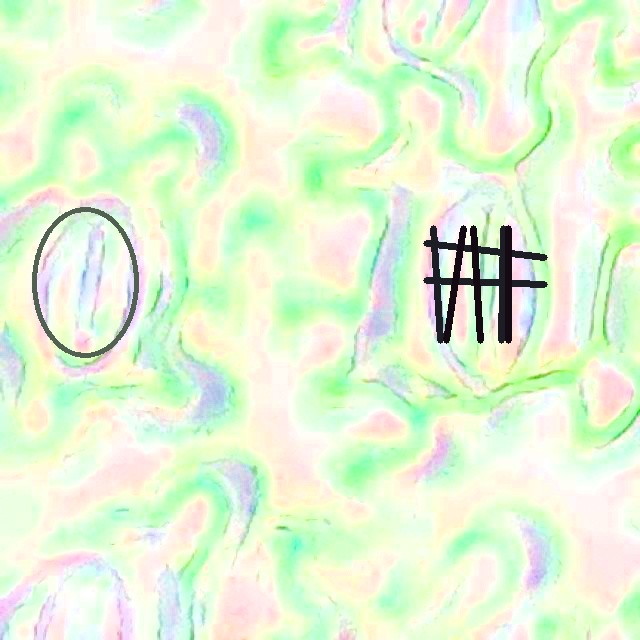open: (32, 206, 138, 358), (424, 226, 547, 343)
